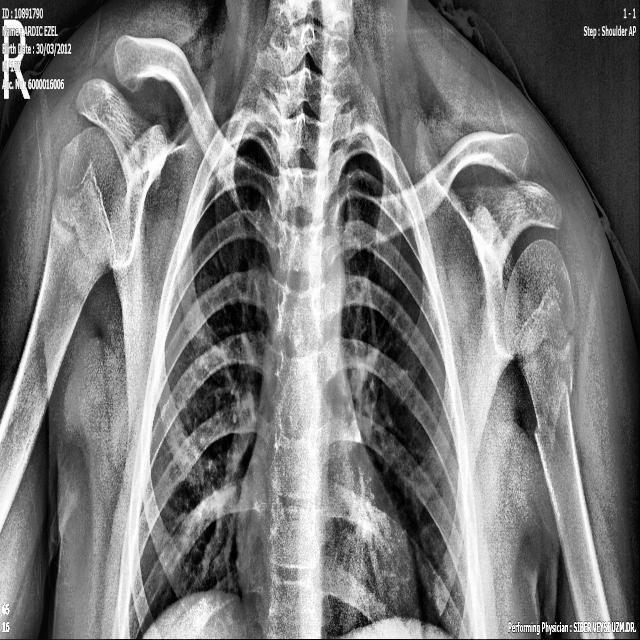Fracture: (521, 363, 588, 474)
